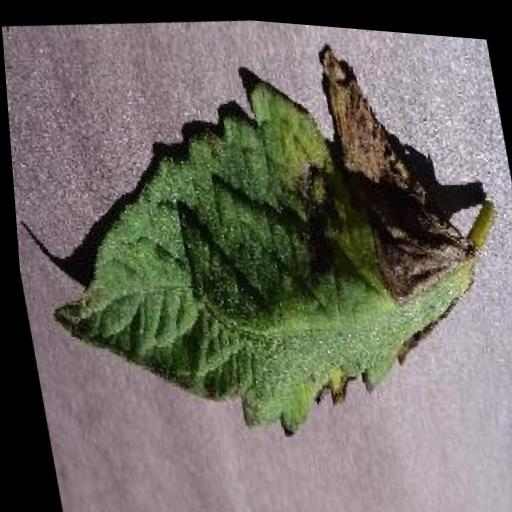Early Blight: (6, 5, 503, 466)
